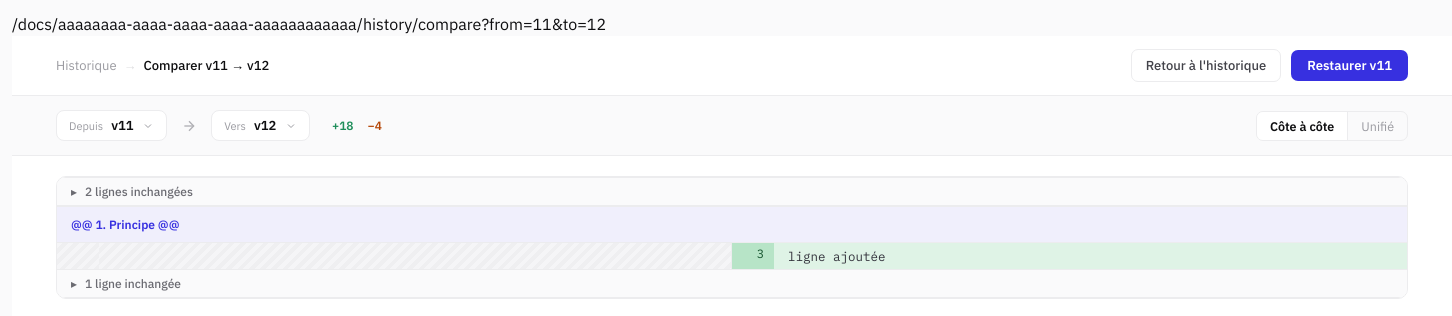
Test: DocumentComparePage › blocs repliés par le serveur (lignes absentes, seulement collapsedUnchanged) › serveur sans contexte complet (blocs toujours vides) → message, pas de ligne inventée
The image size is (1452, 316).
Click the button with test id "diff-collapsed" showing "▸ 2 lignes inchangées" at (139, 192), box [57,177,1407,206]
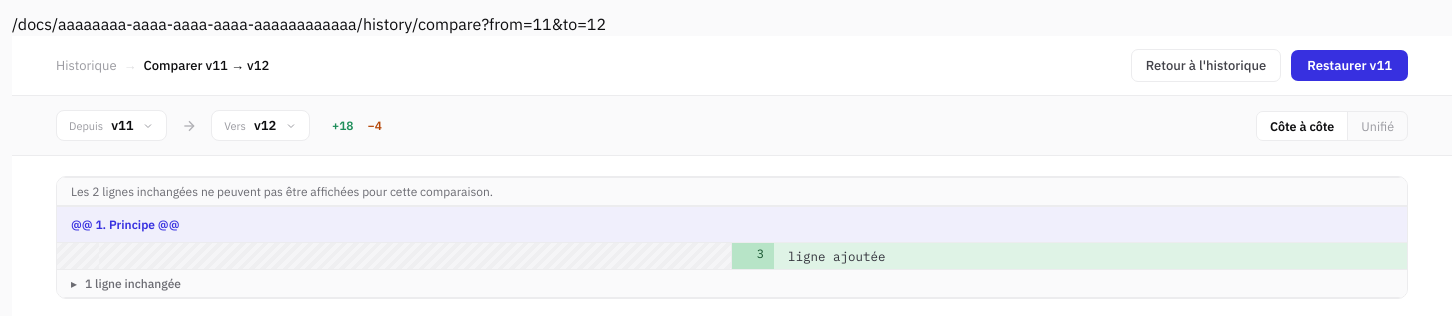
expect the message with test id "diff-folded-unavailable" shows "2 lignes inchangées": met, box [92,184,198,199]
